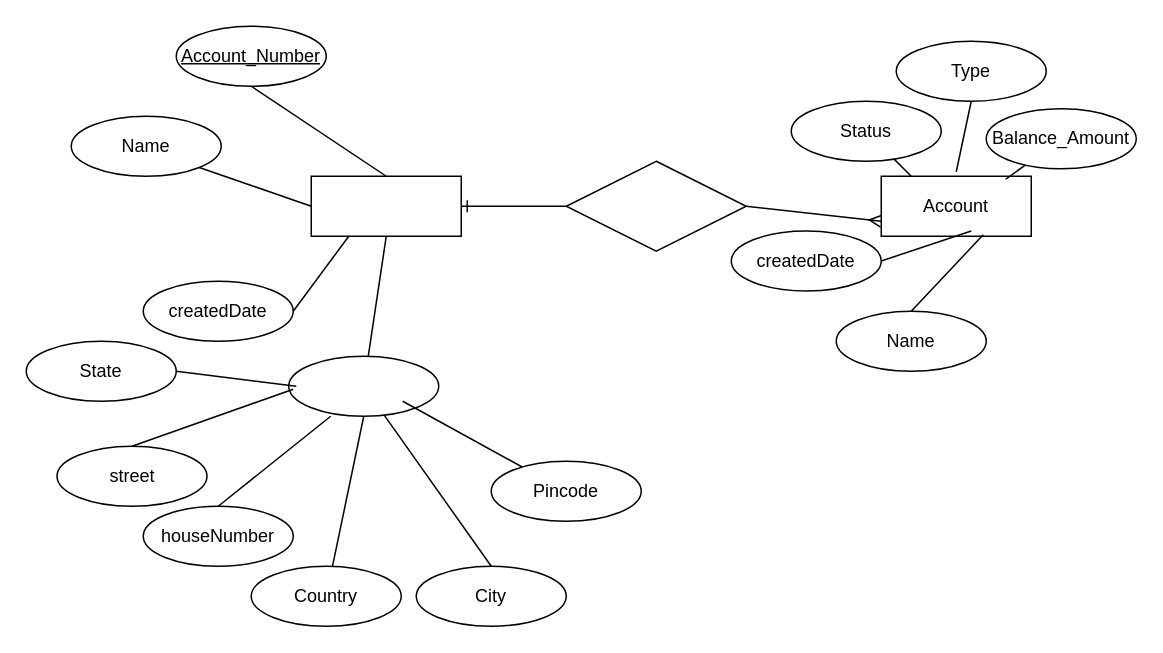
The diagram is 1163 pixels wide and 653 high, and some of its shapes have lost their labels. Here are the shapes that lost their labels. From the top down, the centre of each, then its label:
(x=385, y=205): User
(x=655, y=205): Creates
(x=363, y=385): Address
